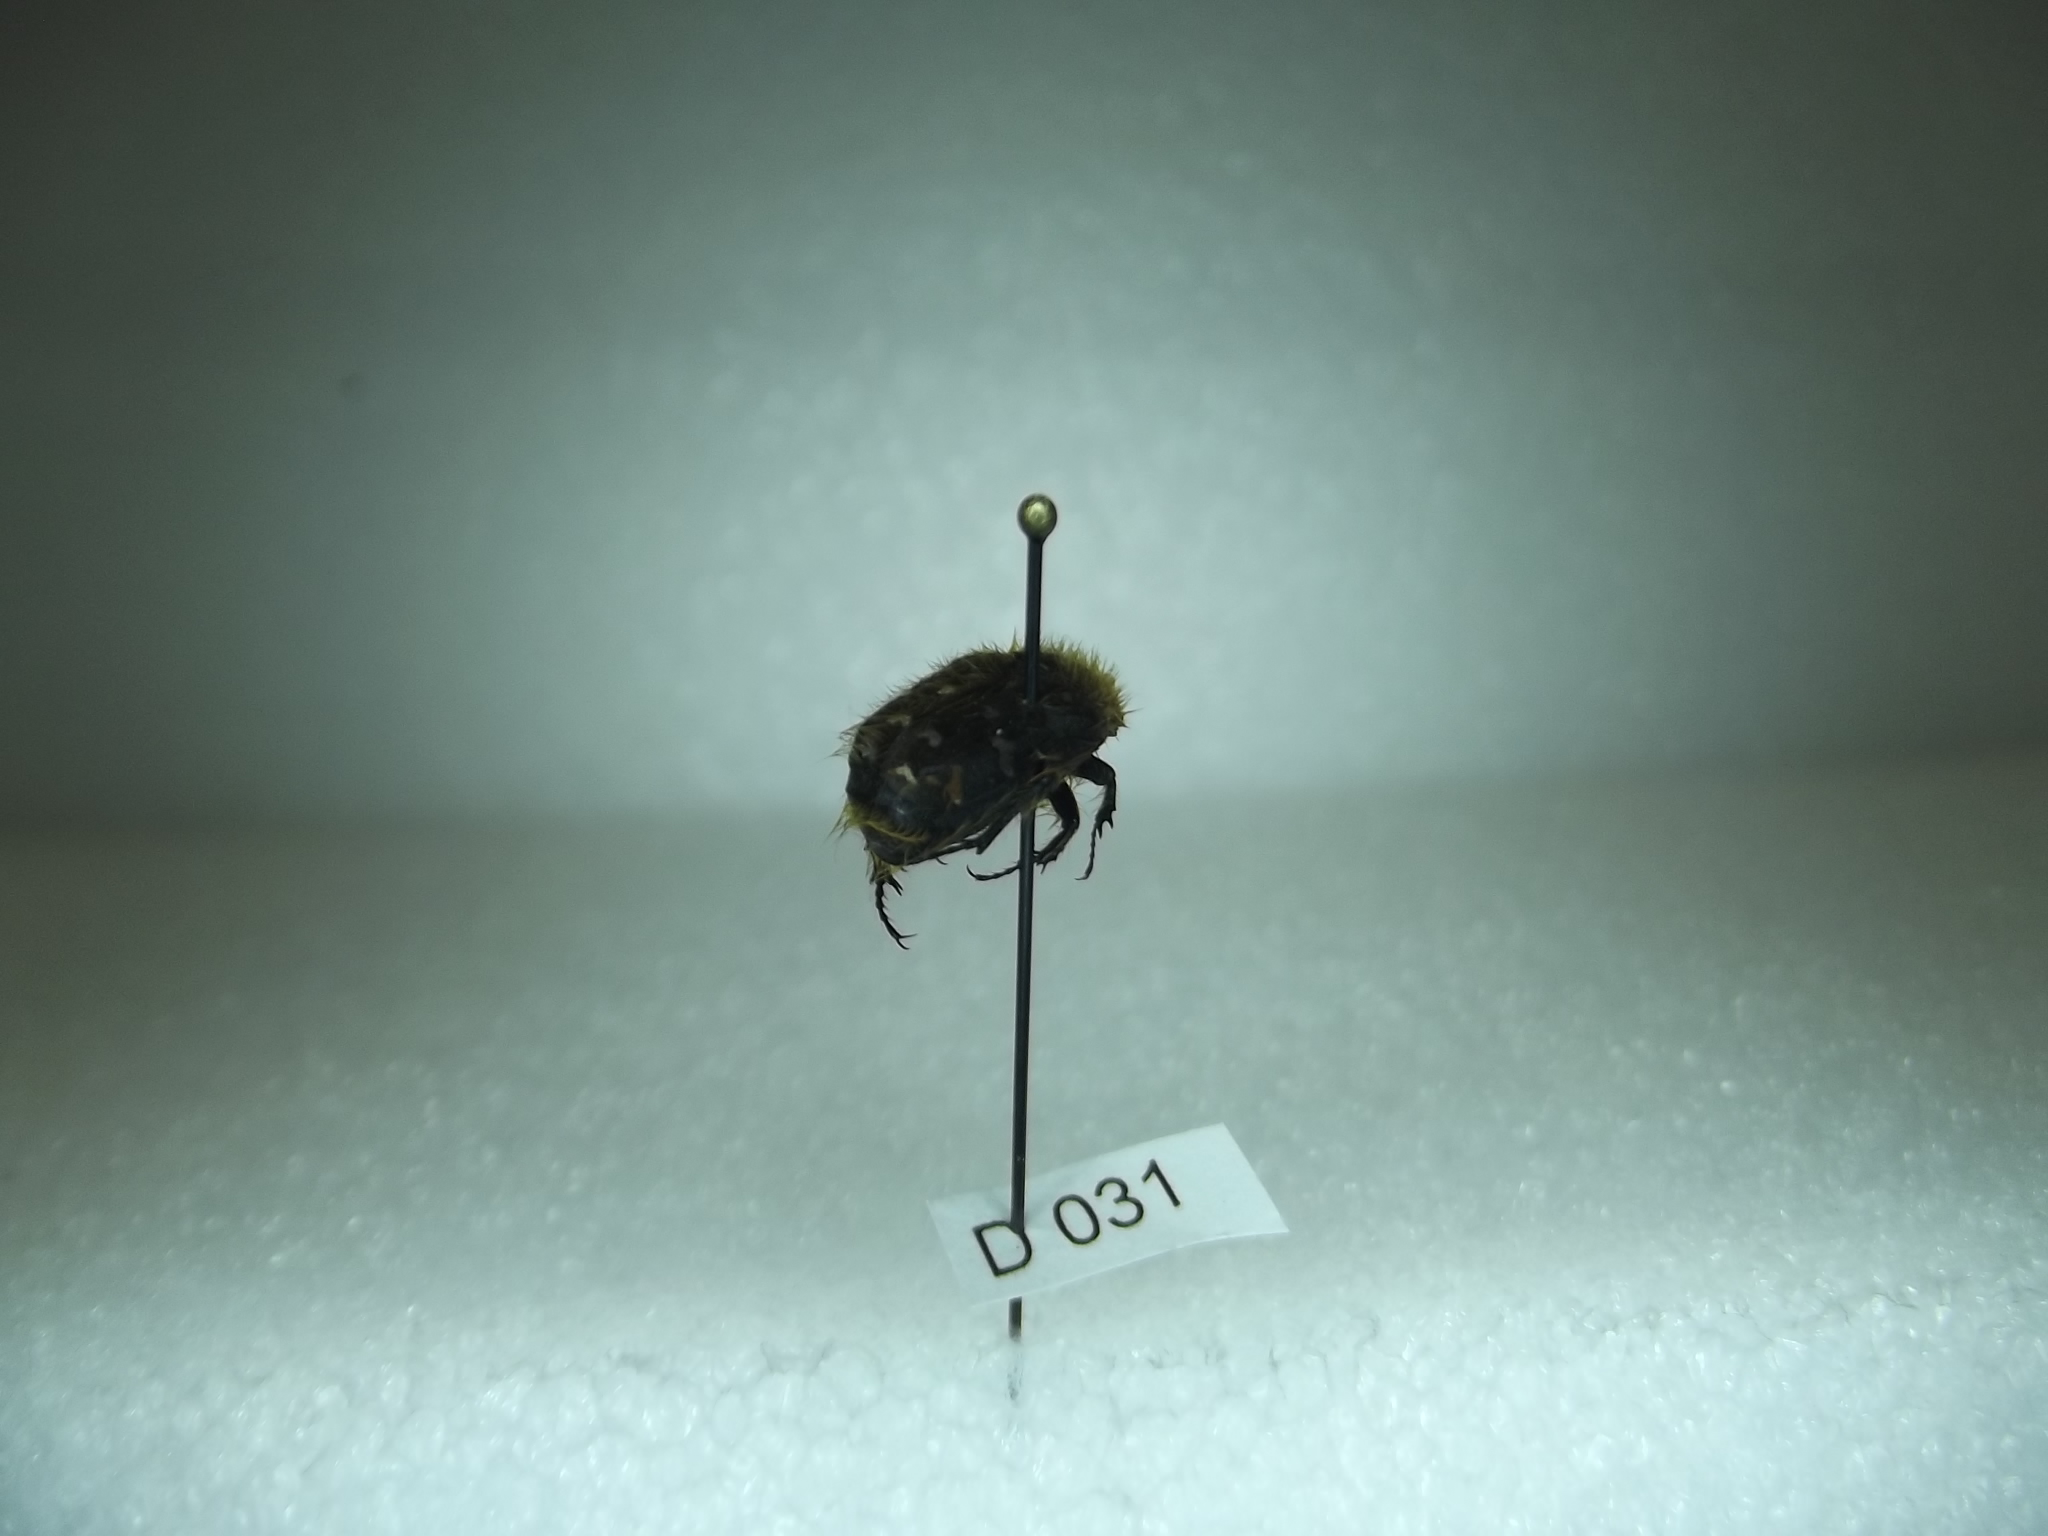Tropinota_hirta: (816, 637, 1150, 978)
